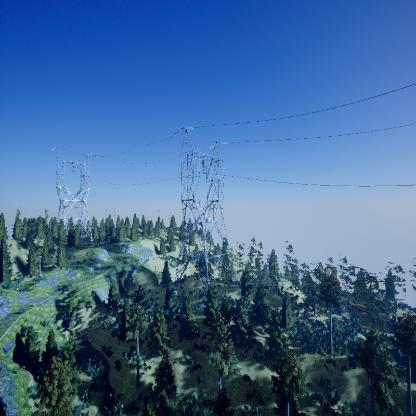tower: (169, 125, 230, 296), (50, 146, 96, 245)
